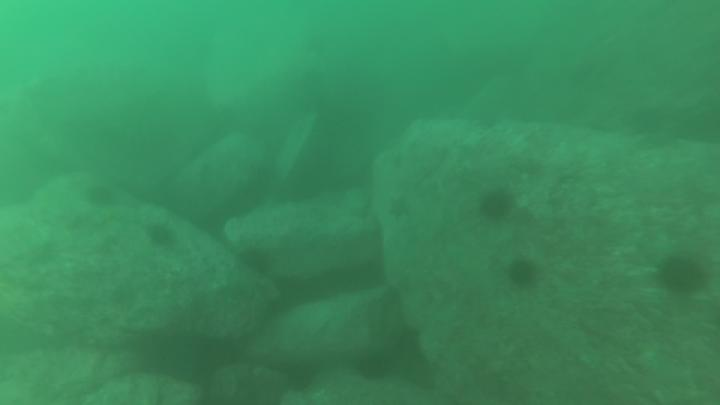echinus: (656, 252, 713, 299), (477, 186, 518, 224), (234, 246, 274, 279), (505, 258, 543, 291), (355, 354, 391, 386), (143, 222, 178, 250), (82, 184, 120, 208)
starfish: (386, 192, 414, 225)
